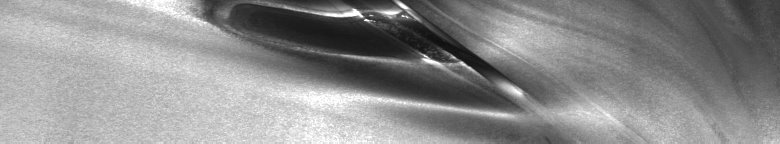ke: (196, 4, 528, 118)
